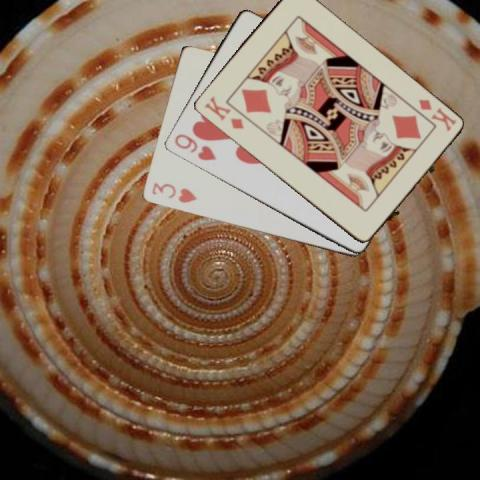3h: (149, 179, 198, 205)
9h: (171, 131, 217, 162)
Kd: (408, 96, 458, 133), (201, 92, 245, 130)
